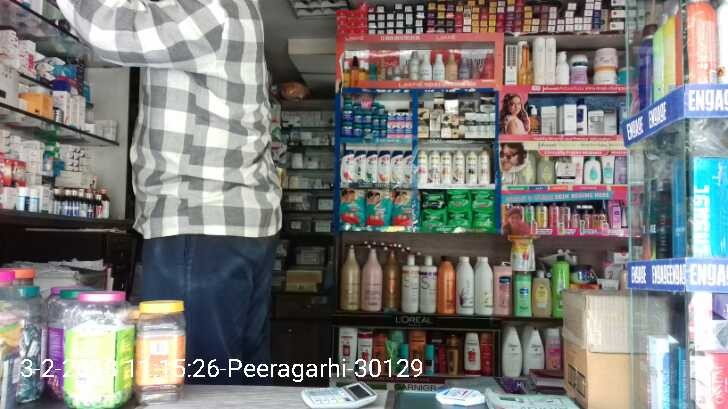vicks: (335, 102, 415, 145)
